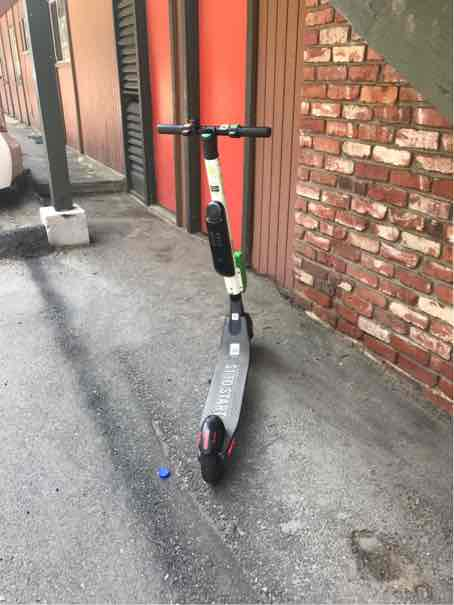scooter: (153, 119, 282, 501)
